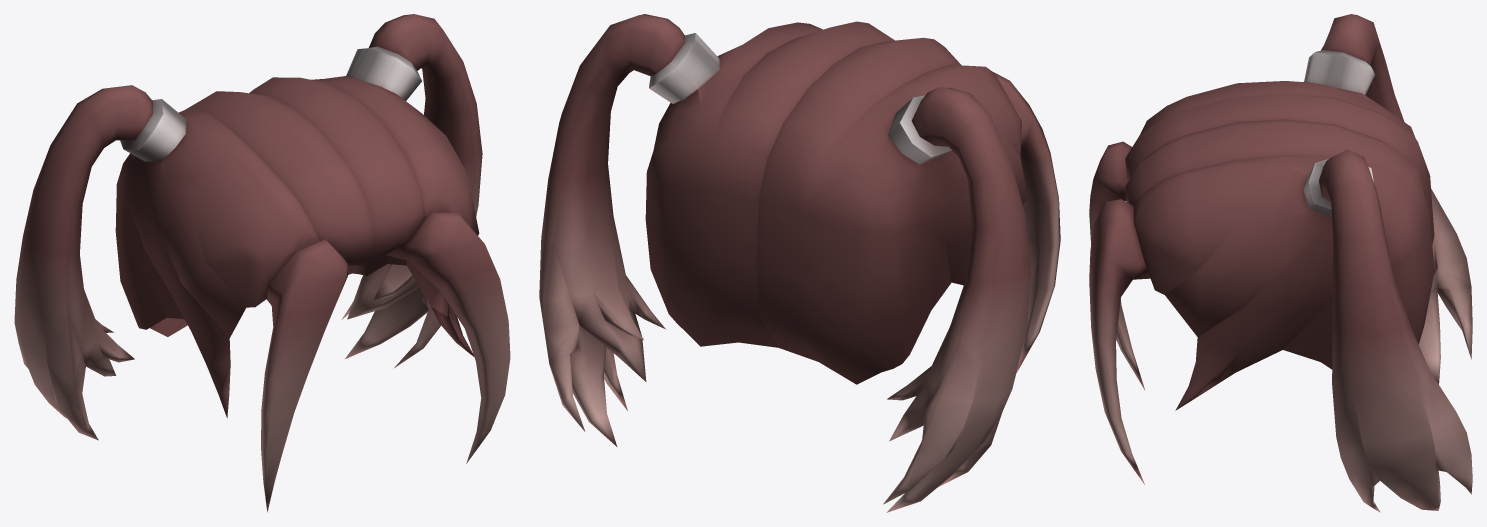
The model's file is Hair_02.fbx.
The picture shows the model from 3 angles, left to right: view 1: azimuth 30°, elevation 25°; view 2: azimuth 150°, elevation 25°; view 3: azimuth 270°, elevation 25°; orthographic projection. The views are drawn at different scales.
Visible parts, largest first — view 1: Hair_02; view 2: Hair_02; view 3: Hair_02.
Boxes of the visible parts, left/top/right/bottom form: Hair_02: left=14, top=14, right=510, bottom=512; Hair_02: left=539, top=14, right=1060, bottom=512; Hair_02: left=1089, top=14, right=1472, bottom=512.
Bounding box in the file's own units: 8.87 × 7.07 × 6.76.
